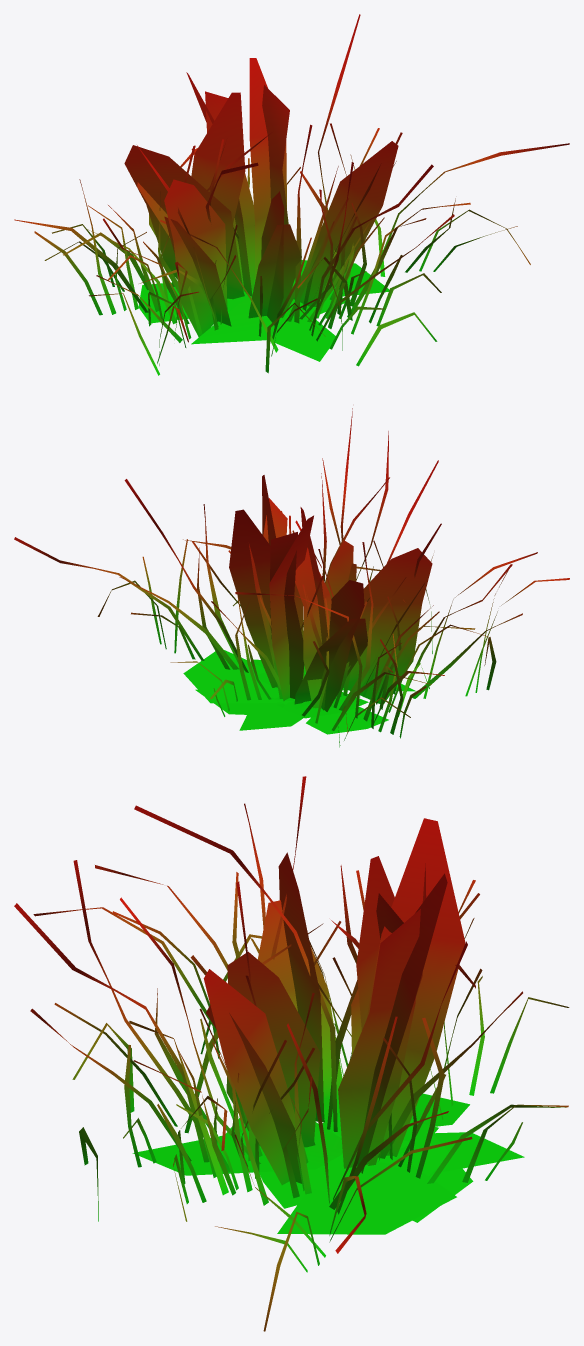
The model's file is Var15_LOD1.fbx.
The picture shows the model from 3 angles, top to bottom: view 1: azimuth 30°, elevation 25°; view 2: azimuth 150°, elevation 25°; view 3: azimuth 270°, elevation 25°; orthographic projection. The views are drawn at different scales.
Parts seen in each view (by area): view 1: _2b68_Var15_LOD1; view 2: _2b68_Var15_LOD1; view 3: _2b68_Var15_LOD1.
Part boxes in pixels (x1,y1,x2,y2): _2b68_Var15_LOD1: (14, 14, 569, 375); _2b68_Var15_LOD1: (14, 408, 569, 747); _2b68_Var15_LOD1: (14, 776, 569, 1331).
Bounding box in the file's own units: 16.27 × 7.06 × 10.77.
